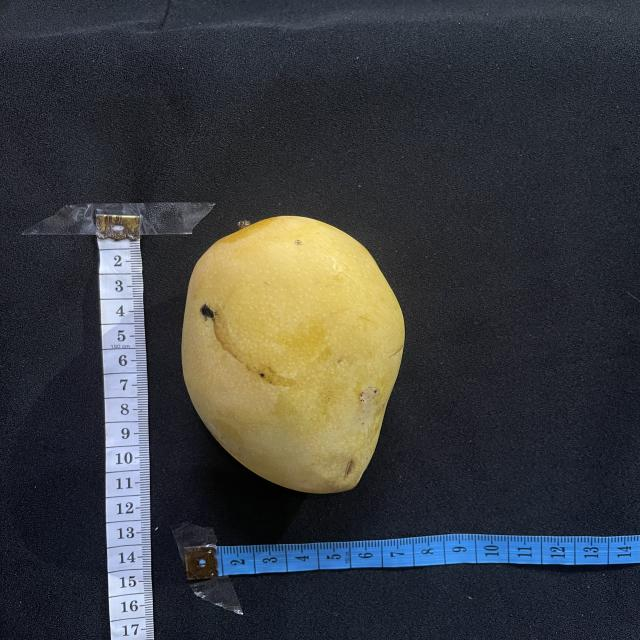Ripe: (182, 216, 404, 493)
